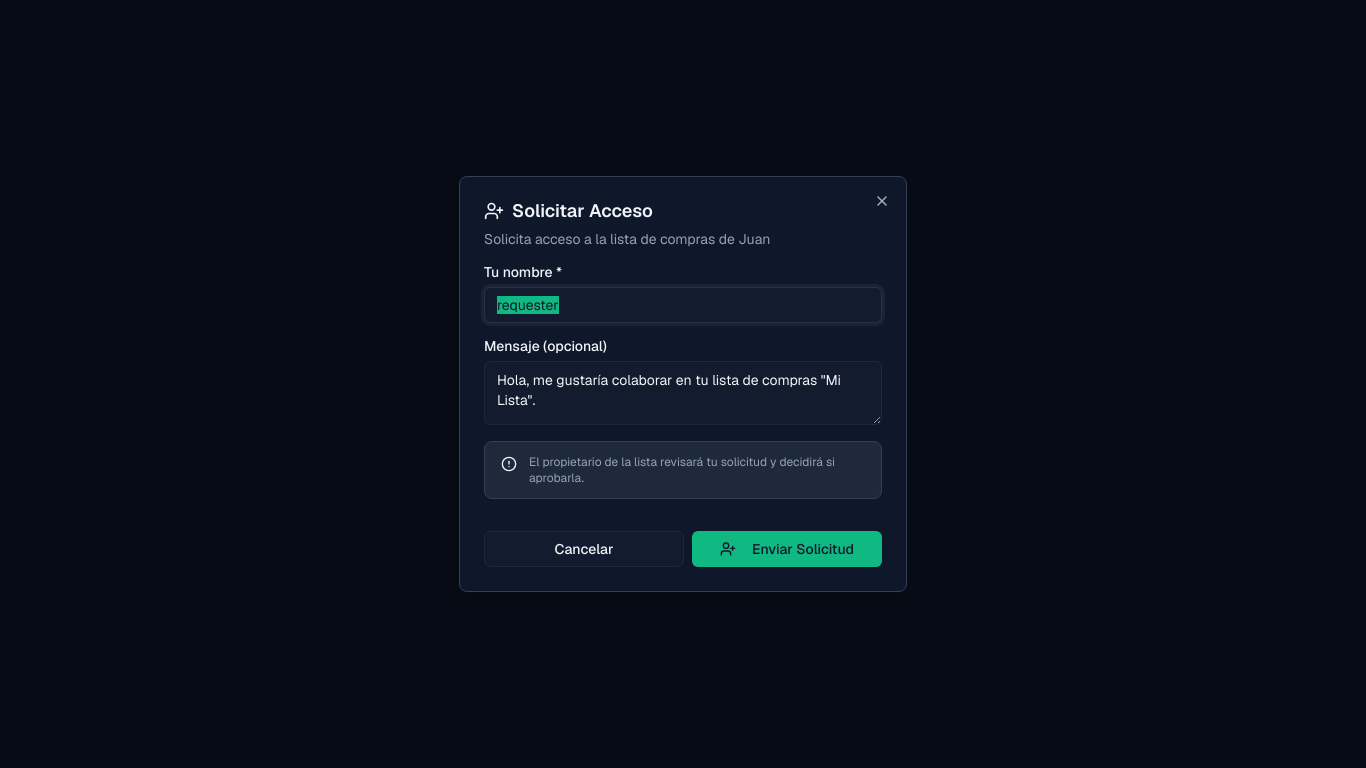
RequestAccessModal › should send access request successfully
The width and height of the screenshot is (1366, 768).
Replace the text in the field labelled "Tu nombre *" with "María García": (683, 305) [484,287,882,323]
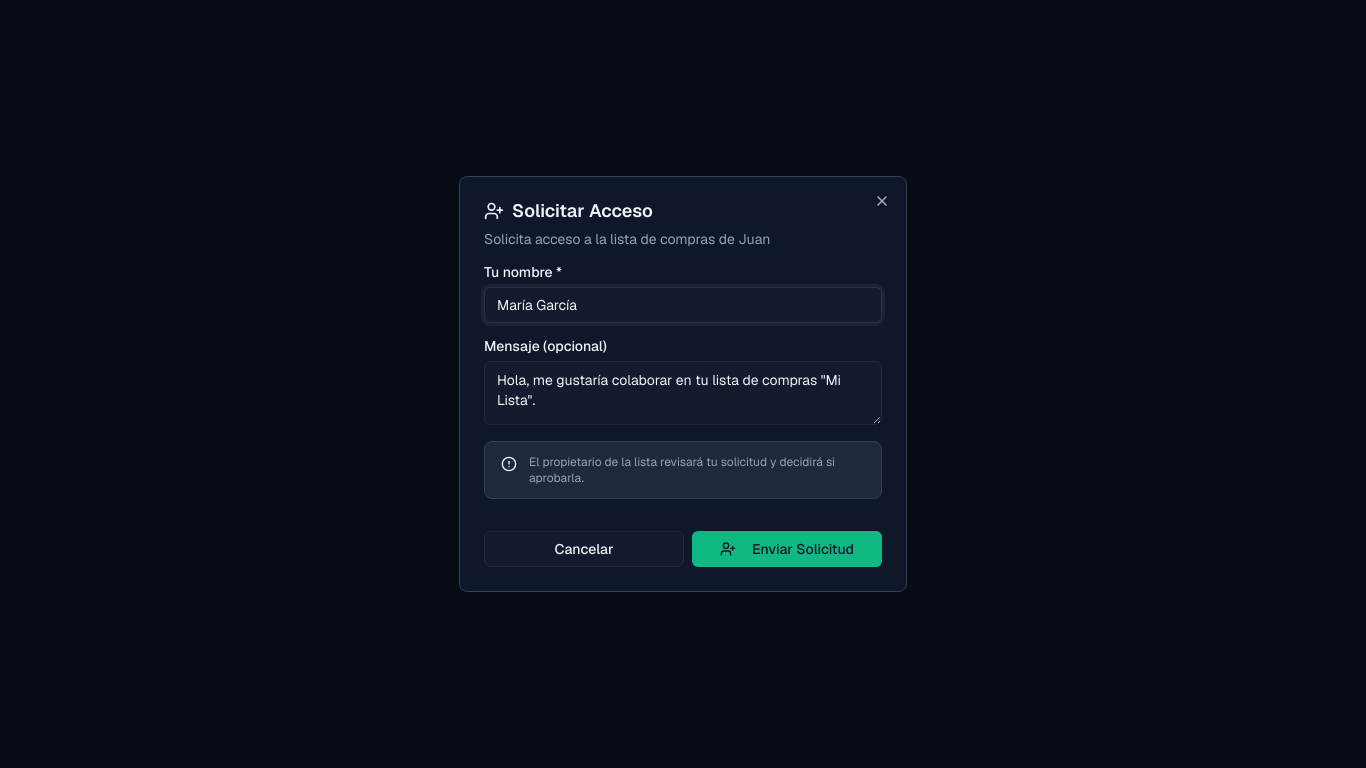
Click the button "Enviar Solicitud": (787, 549) [692,531,882,567]
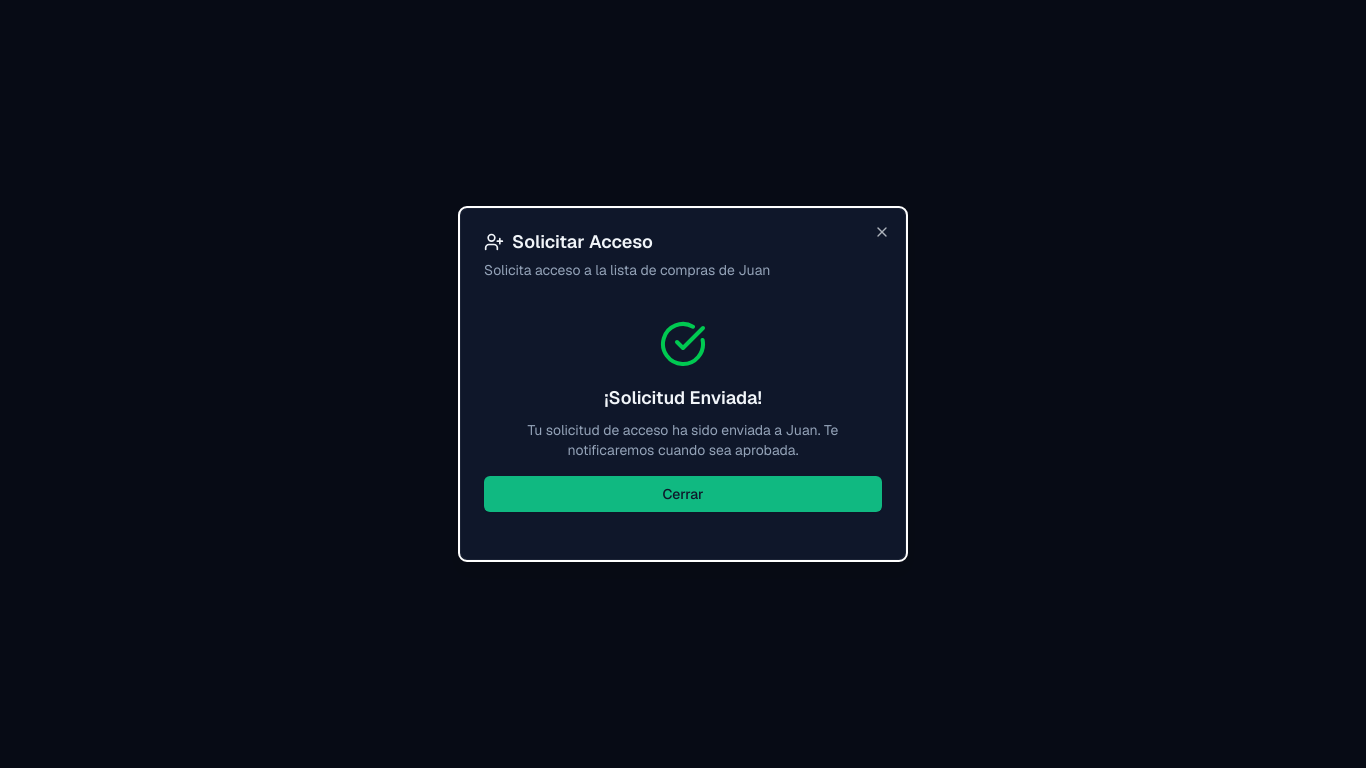
Expected: the heading "¡Solicitud Enviada!" is shown, [604,386,762,409]
